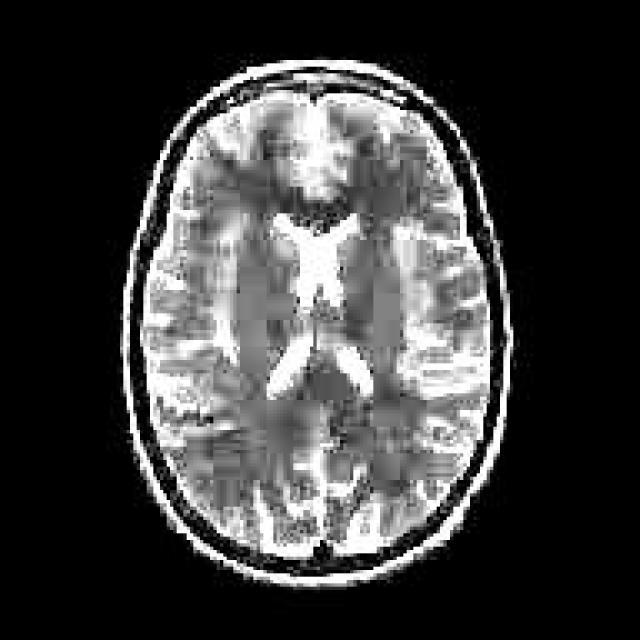notumor: (117, 60, 513, 597)
